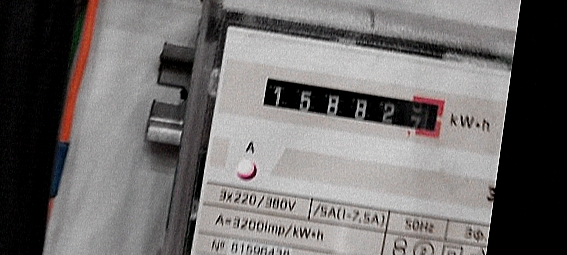1: (270, 83, 287, 107)
2: (379, 100, 398, 126)
5: (297, 87, 315, 114)
7: (409, 111, 423, 130)
8: (353, 96, 370, 122), (325, 93, 341, 117)
screen: (252, 67, 455, 148)
